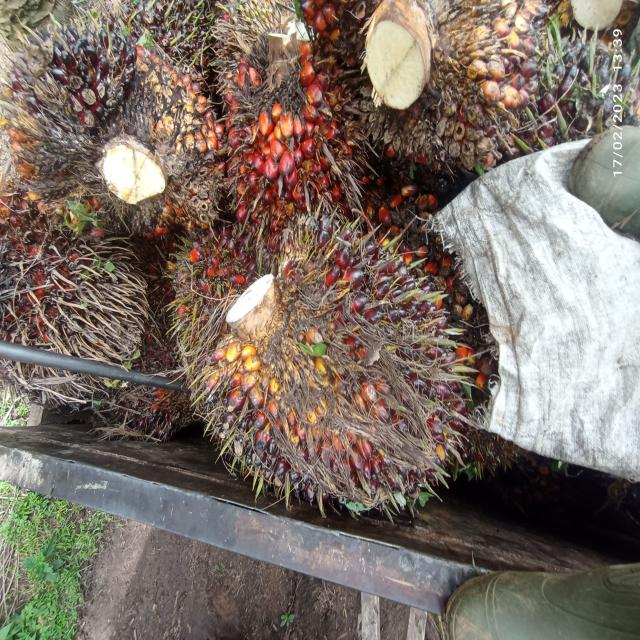fraksi 00: (1, 12, 151, 188)
fraksi 1: (205, 210, 456, 530)
fraksi 4: (228, 2, 364, 232), (2, 216, 152, 417)
